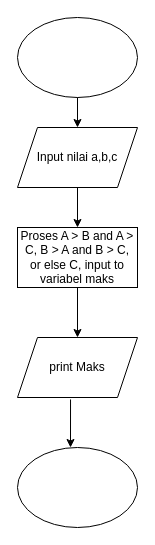
Image size: 155x545. Some labels were removed from this diagram. The shapes that lost their labels are listed below. From the top down, each one's centre as x and y in pixels, then its label:
[77,57]: START
[77,487]: END
